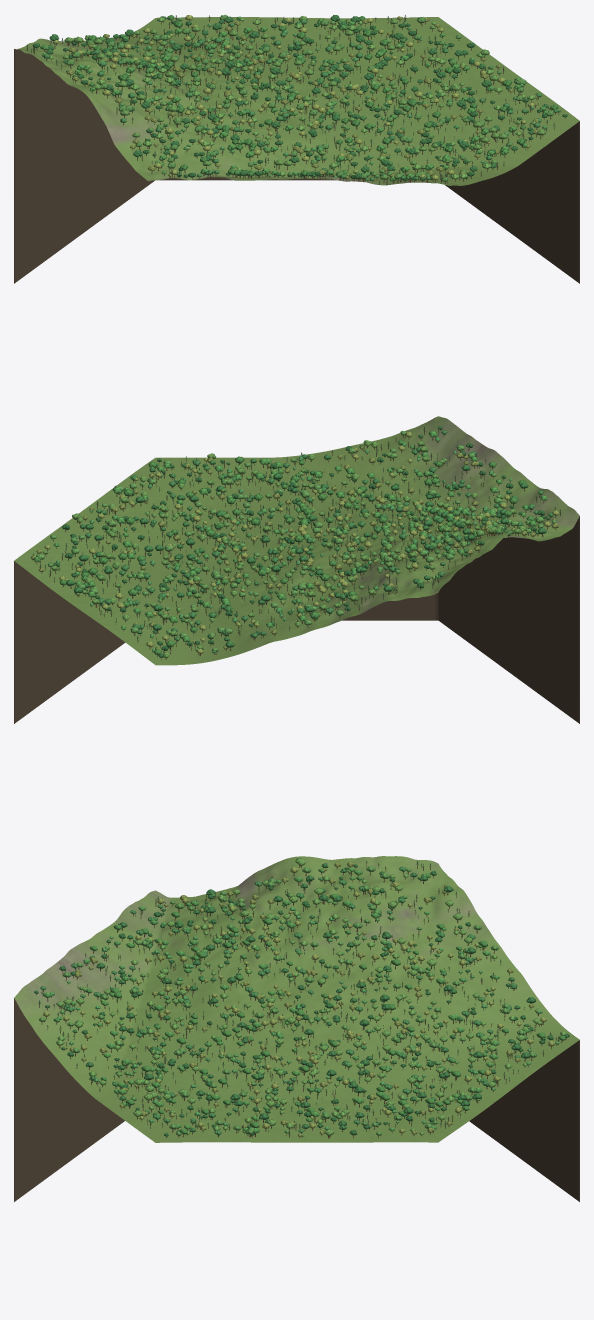
The picture shows the model from 3 angles, top to bottom: view 1: azimuth 30°, elevation 25°; view 2: azimuth 150°, elevation 25°; view 3: azimuth 270°, elevation 25°; orthographic projection.
Visible parts, largest first — view 1: terrain, broadleaf_canopy, hex_side_cut, trunks, conifer_canopy; view 2: terrain, broadleaf_canopy, hex_side_cut, trunks, conifer_canopy; view 3: terrain, broadleaf_canopy, hex_side_cut, trunks, conifer_canopy.
Part boxes in pixels (left/top/right/bottom): terrain: left=18, top=17, right=579, bottom=185; broadleaf_canopy: left=32, top=14, right=567, bottom=181; hex_side_cut: left=14, top=49, right=579, bottom=283; trunks: left=27, top=15, right=565, bottom=185; conifer_canopy: left=27, top=15, right=554, bottom=183; terrain: left=14, top=416, right=579, bottom=665; broadleaf_canopy: left=31, top=426, right=559, bottom=658; hex_side_cut: left=14, top=516, right=579, bottom=723; trunks: left=34, top=427, right=560, bottom=659; conifer_canopy: left=39, top=427, right=560, bottom=653; terrain: left=14, top=856, right=579, bottom=1142; broadleaf_canopy: left=34, top=858, right=569, bottom=1136; hex_side_cut: left=14, top=998, right=579, bottom=1201; trunks: left=36, top=861, right=566, bottom=1138; conifer_canopy: left=38, top=861, right=559, bottom=1134.
Bounding box in the file's own units: 4330 × 2403 × 5000.
6 materials, 1 textured.
